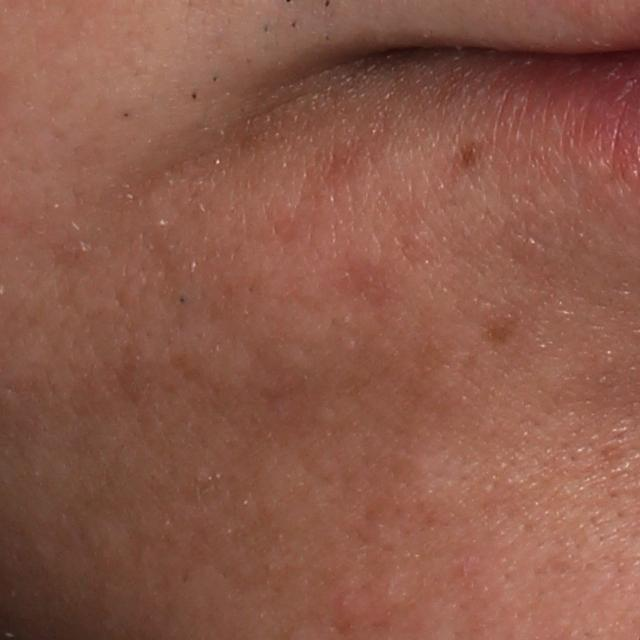hypertrophic_scar: (391, 442, 468, 517)
nevus: (454, 134, 487, 172)
